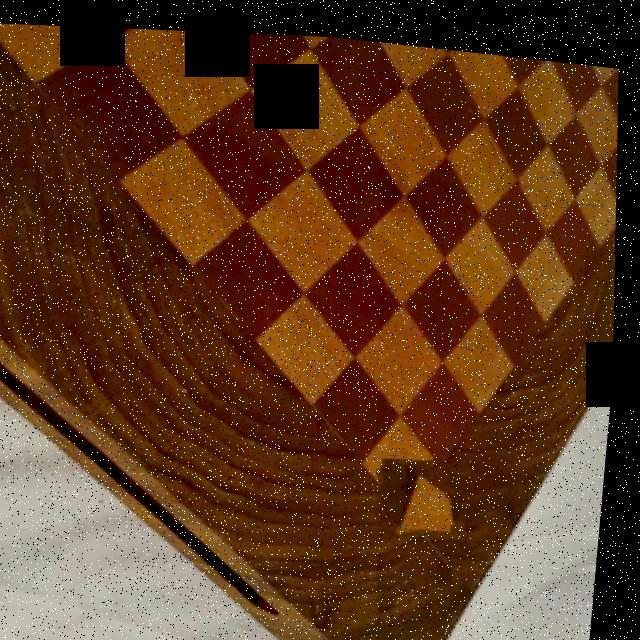chess-table-corners: (382, 442, 464, 528)
